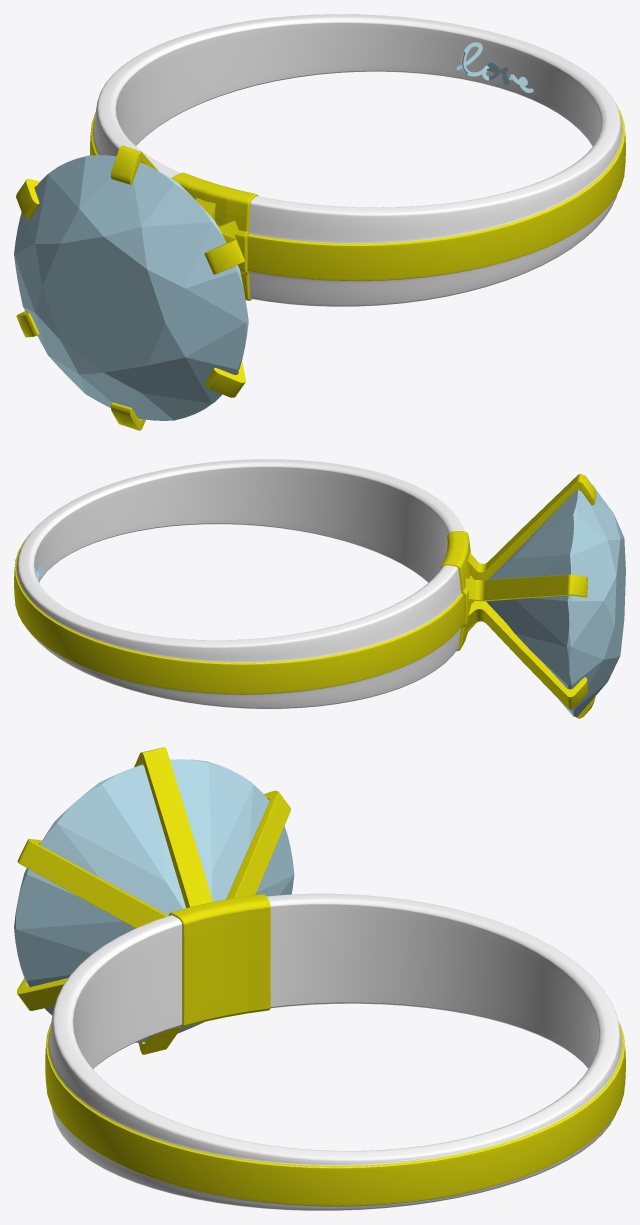
The model's file is Ring_2.fbx.
The picture shows the model from 3 angles, top to bottom: view 1: azimuth 30°, elevation 25°; view 2: azimuth 150°, elevation 25°; view 3: azimuth 270°, elevation 25°; orthographic projection. The views are drawn at different scales.
Parts seen in each view (by area): view 1: Ring; view 2: Ring; view 3: Ring.
Boxes of the visible parts, box(x1,y1,x2,y2) form: Ring: box(14, 14, 625, 430); Ring: box(14, 459, 625, 718); Ring: box(14, 747, 625, 1210).
Size of the model in its own units: 2.85 by 1.25 by 2.29.
